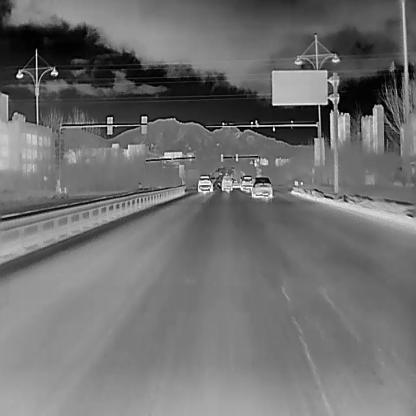car: (251, 176, 272, 198), (197, 174, 213, 192), (219, 174, 233, 192), (238, 175, 253, 191), (231, 178, 238, 189)
